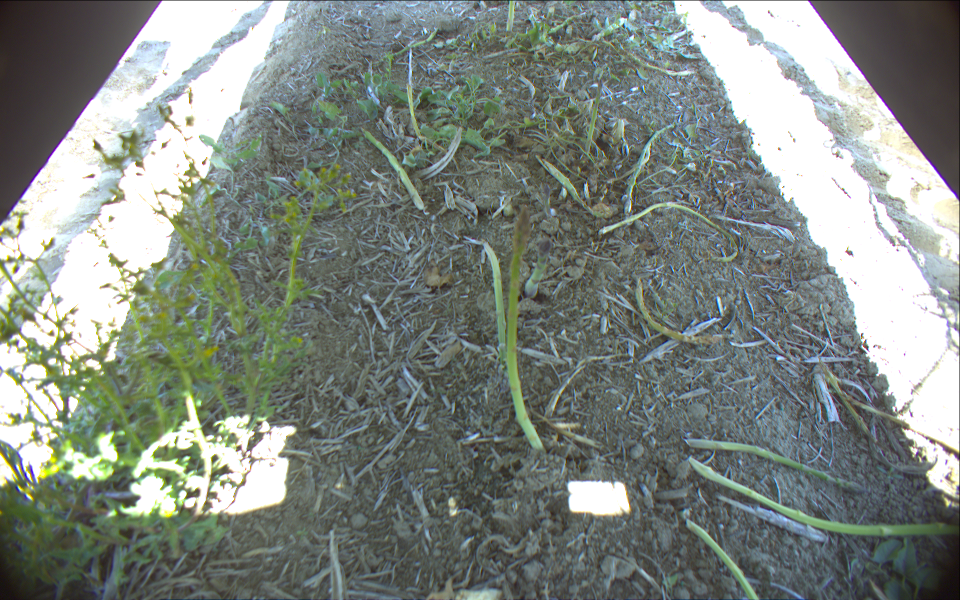aspa: (498, 204, 549, 454), (523, 237, 552, 303), (582, 78, 605, 156), (504, 1, 519, 33)
